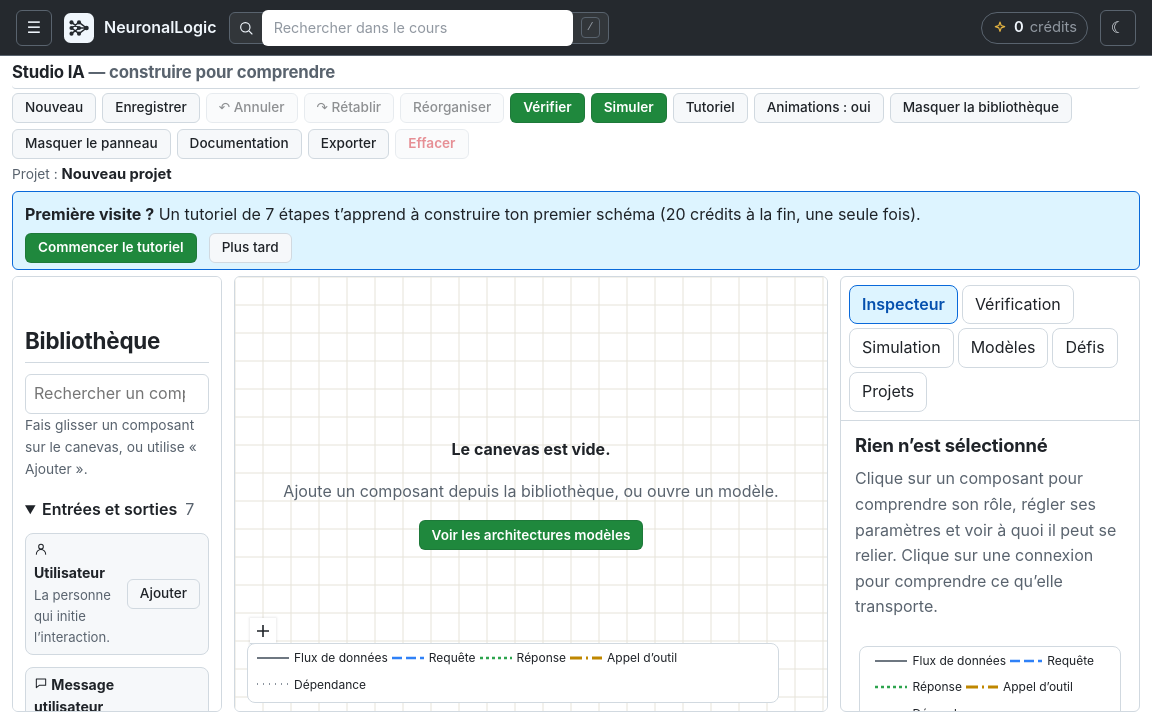
Studio : bibliothèque et édition › modifie un paramètre, puis annule et rétablit depuis la barre d’outils
Click the button with aria-label "Ajouter Utilisateur" at point(163, 594), box x1=127 y1=579 x2=200 y2=609
(page scrolled)
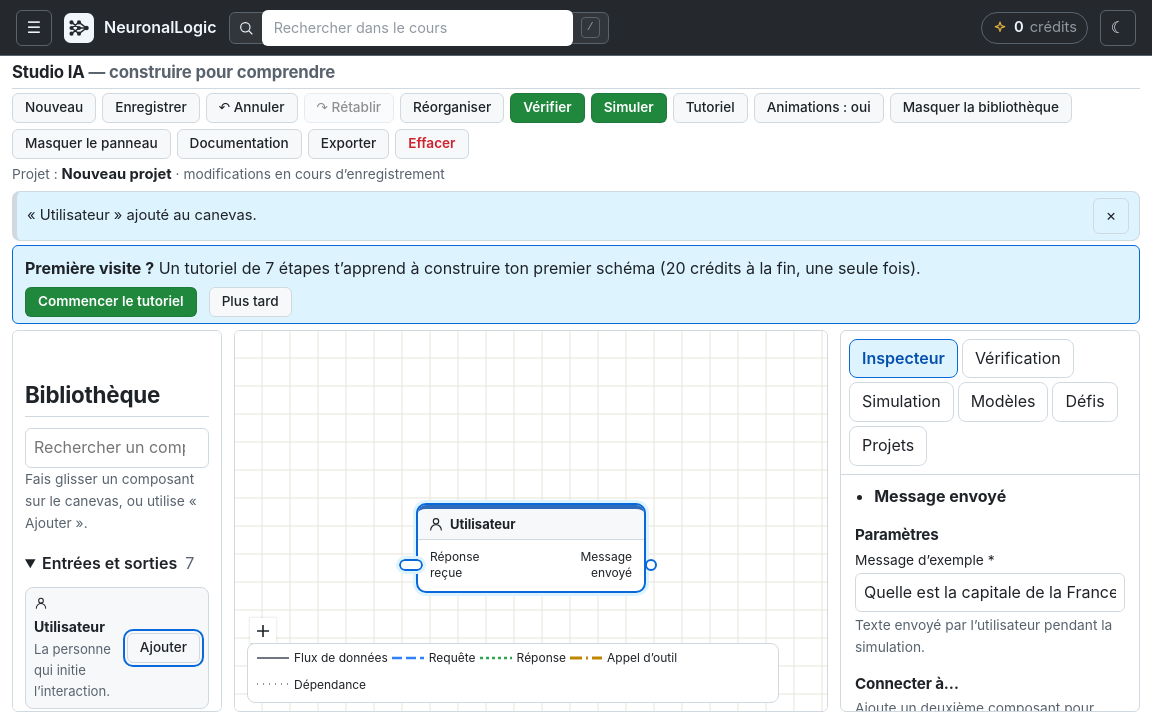
Replace the text in the field labelled "Message d’exemple *" with "Bonjour" at point(990, 592), box x1=855 y1=573 x2=1125 y2=612
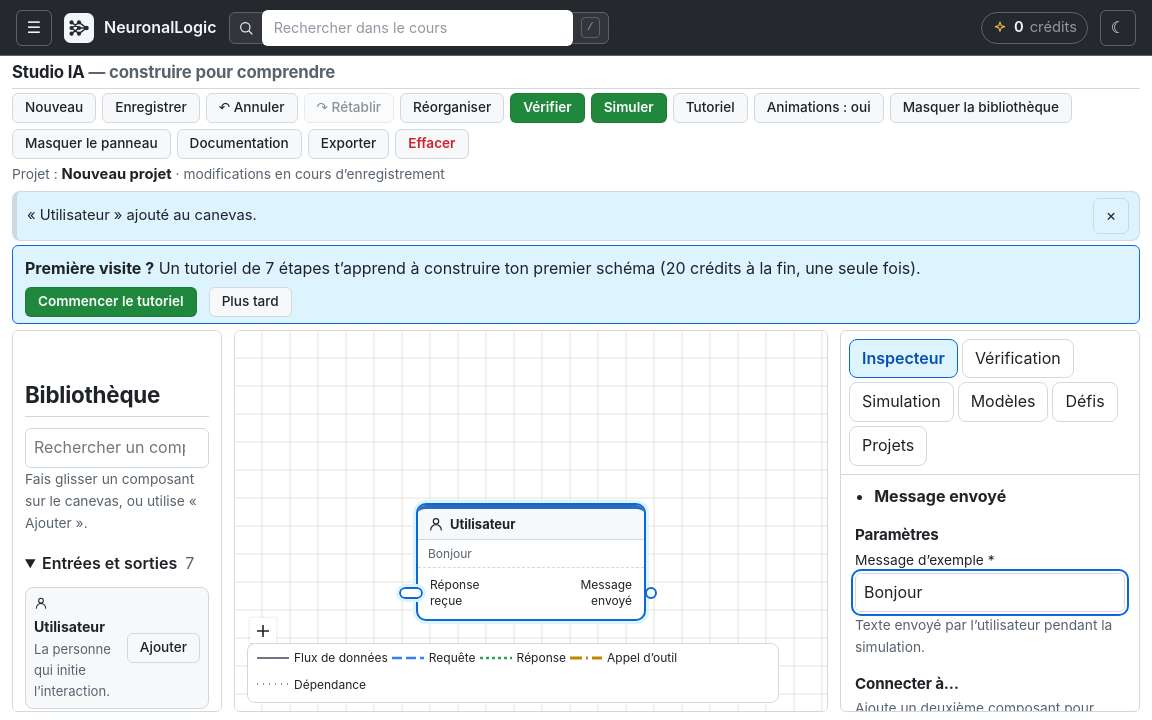
Expected: the text "Bonjour" is shown, x1=418 y1=540 x2=644 y2=568
Click the button with aria-label "Annuler (Ctrl+Z)" at point(252, 108), box x1=206 y1=93 x2=298 y2=123
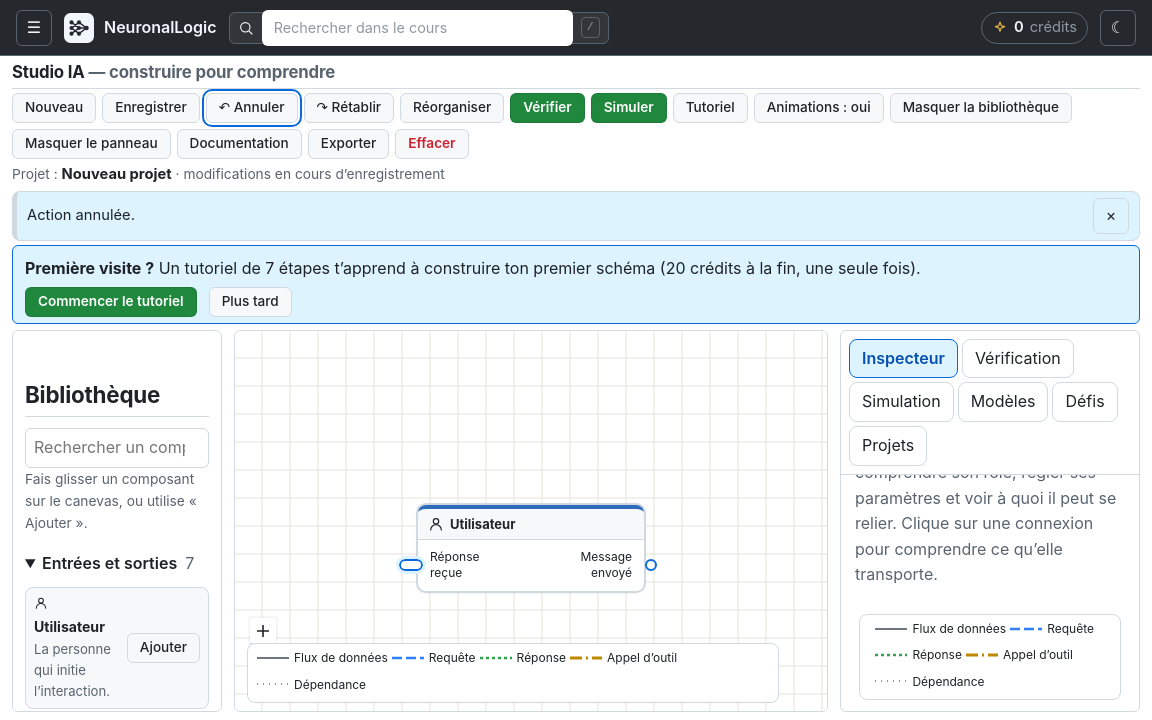
Click the button "↷ Rétablir" at point(349, 108), box x1=304 y1=93 x2=394 y2=123
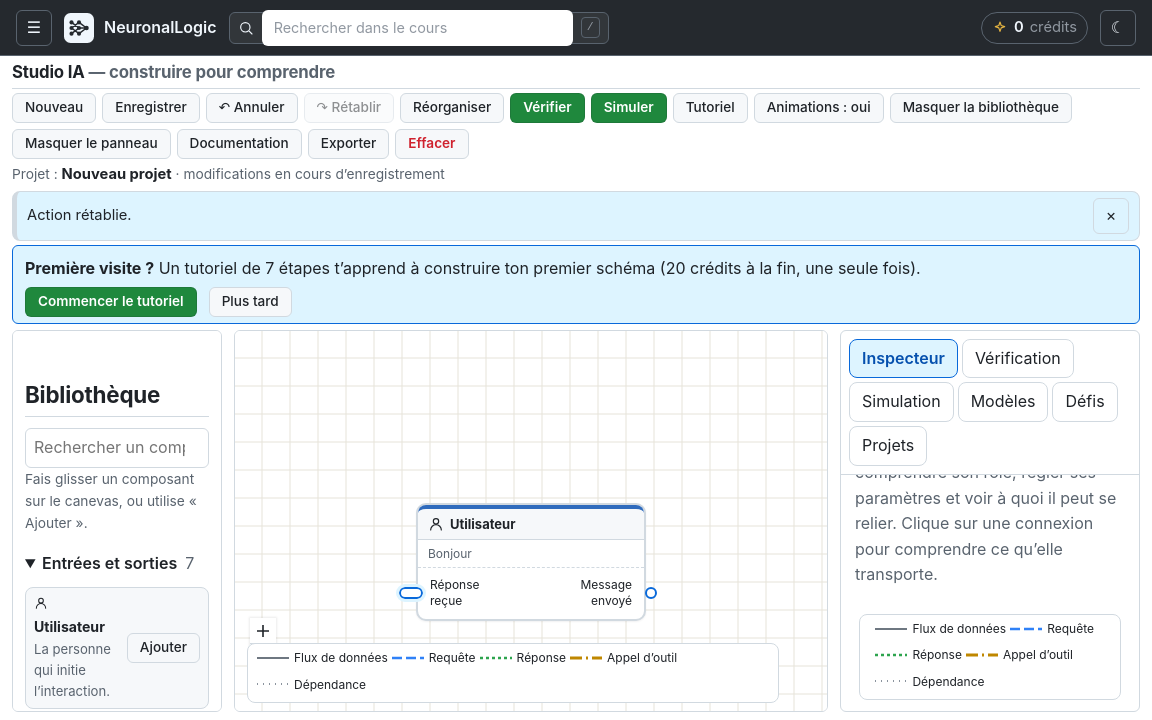
Expected: the text "Bonjour" is shown, x1=418 y1=540 x2=644 y2=568
